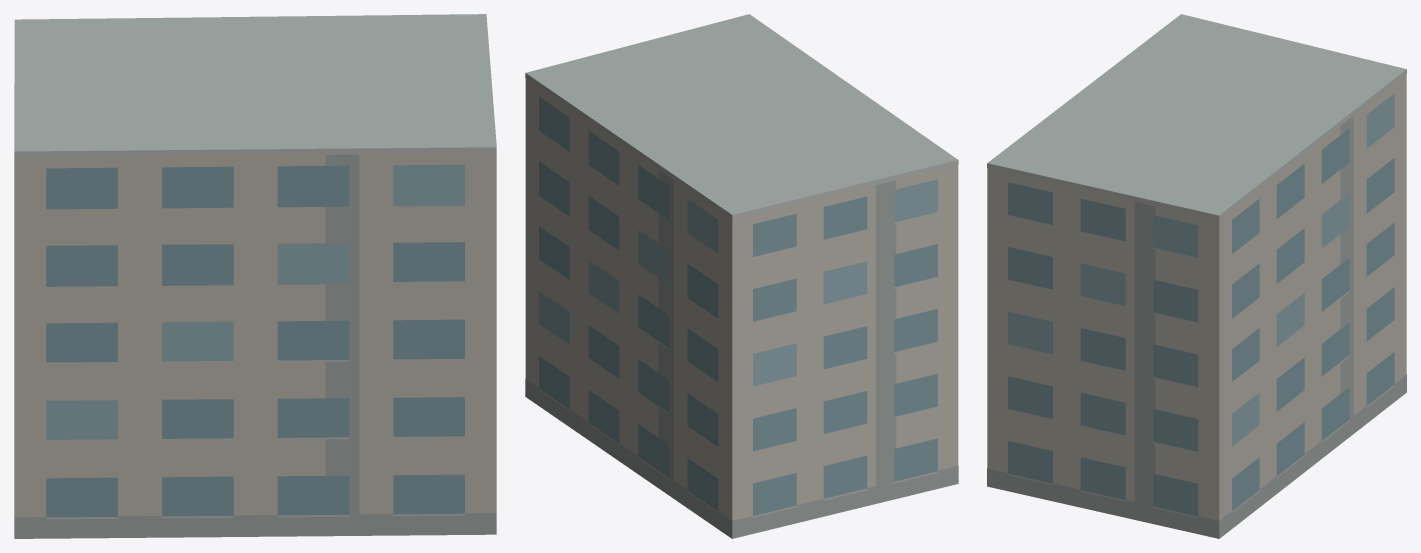
The model's file is residential-56d12ce3-2ddf-4b4a-9d54-fbe0341a12e3.glb.
3 renders of one model, left to right at view 1: azimuth 30°, elevation 25°; view 2: azimuth 150°, elevation 25°; view 3: azimuth 270°, elevation 25°, orthographic. The views are drawn at different scales.
Parts seen in each view (by area): view 1: residential-56d12ce3-2ddf-4b4a-9d54-fbe0341a12e3.tmp; view 2: residential-56d12ce3-2ddf-4b4a-9d54-fbe0341a12e3.tmp; view 3: residential-56d12ce3-2ddf-4b4a-9d54-fbe0341a12e3.tmp.
Boxes of the visible parts, x1=… form: residential-56d12ce3-2ddf-4b4a-9d54-fbe0341a12e3.tmp: x1=14, y1=14, x2=496, y2=538; residential-56d12ce3-2ddf-4b4a-9d54-fbe0341a12e3.tmp: x1=525, y1=14, x2=958, y2=538; residential-56d12ce3-2ddf-4b4a-9d54-fbe0341a12e3.tmp: x1=987, y1=14, x2=1406, y2=538.
Size of the model in its own units: 20.4 by 15.25 by 17.94.
